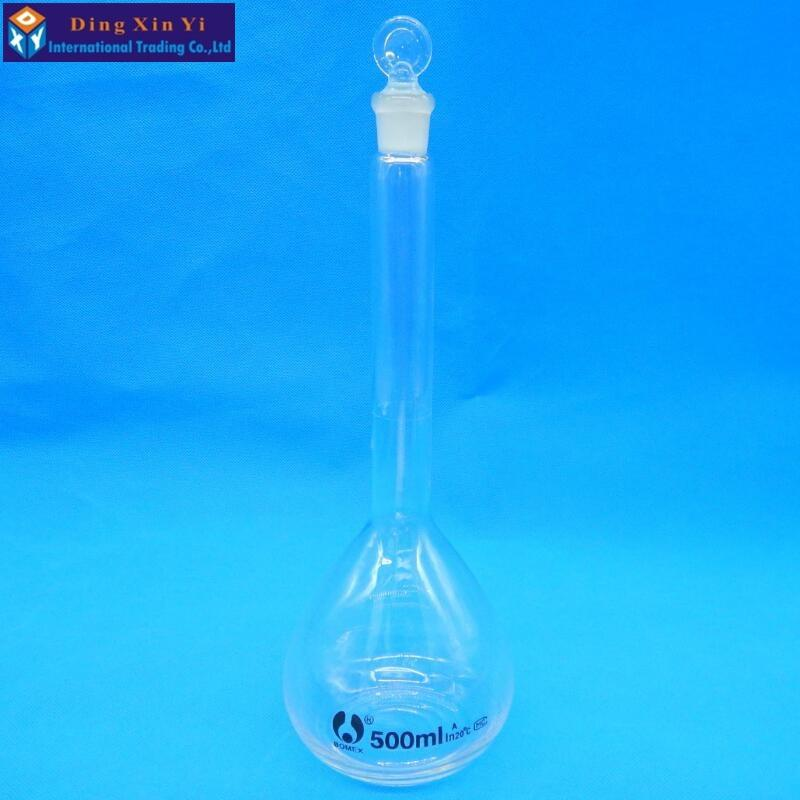Volumetric flask: (280, 16, 497, 797)
